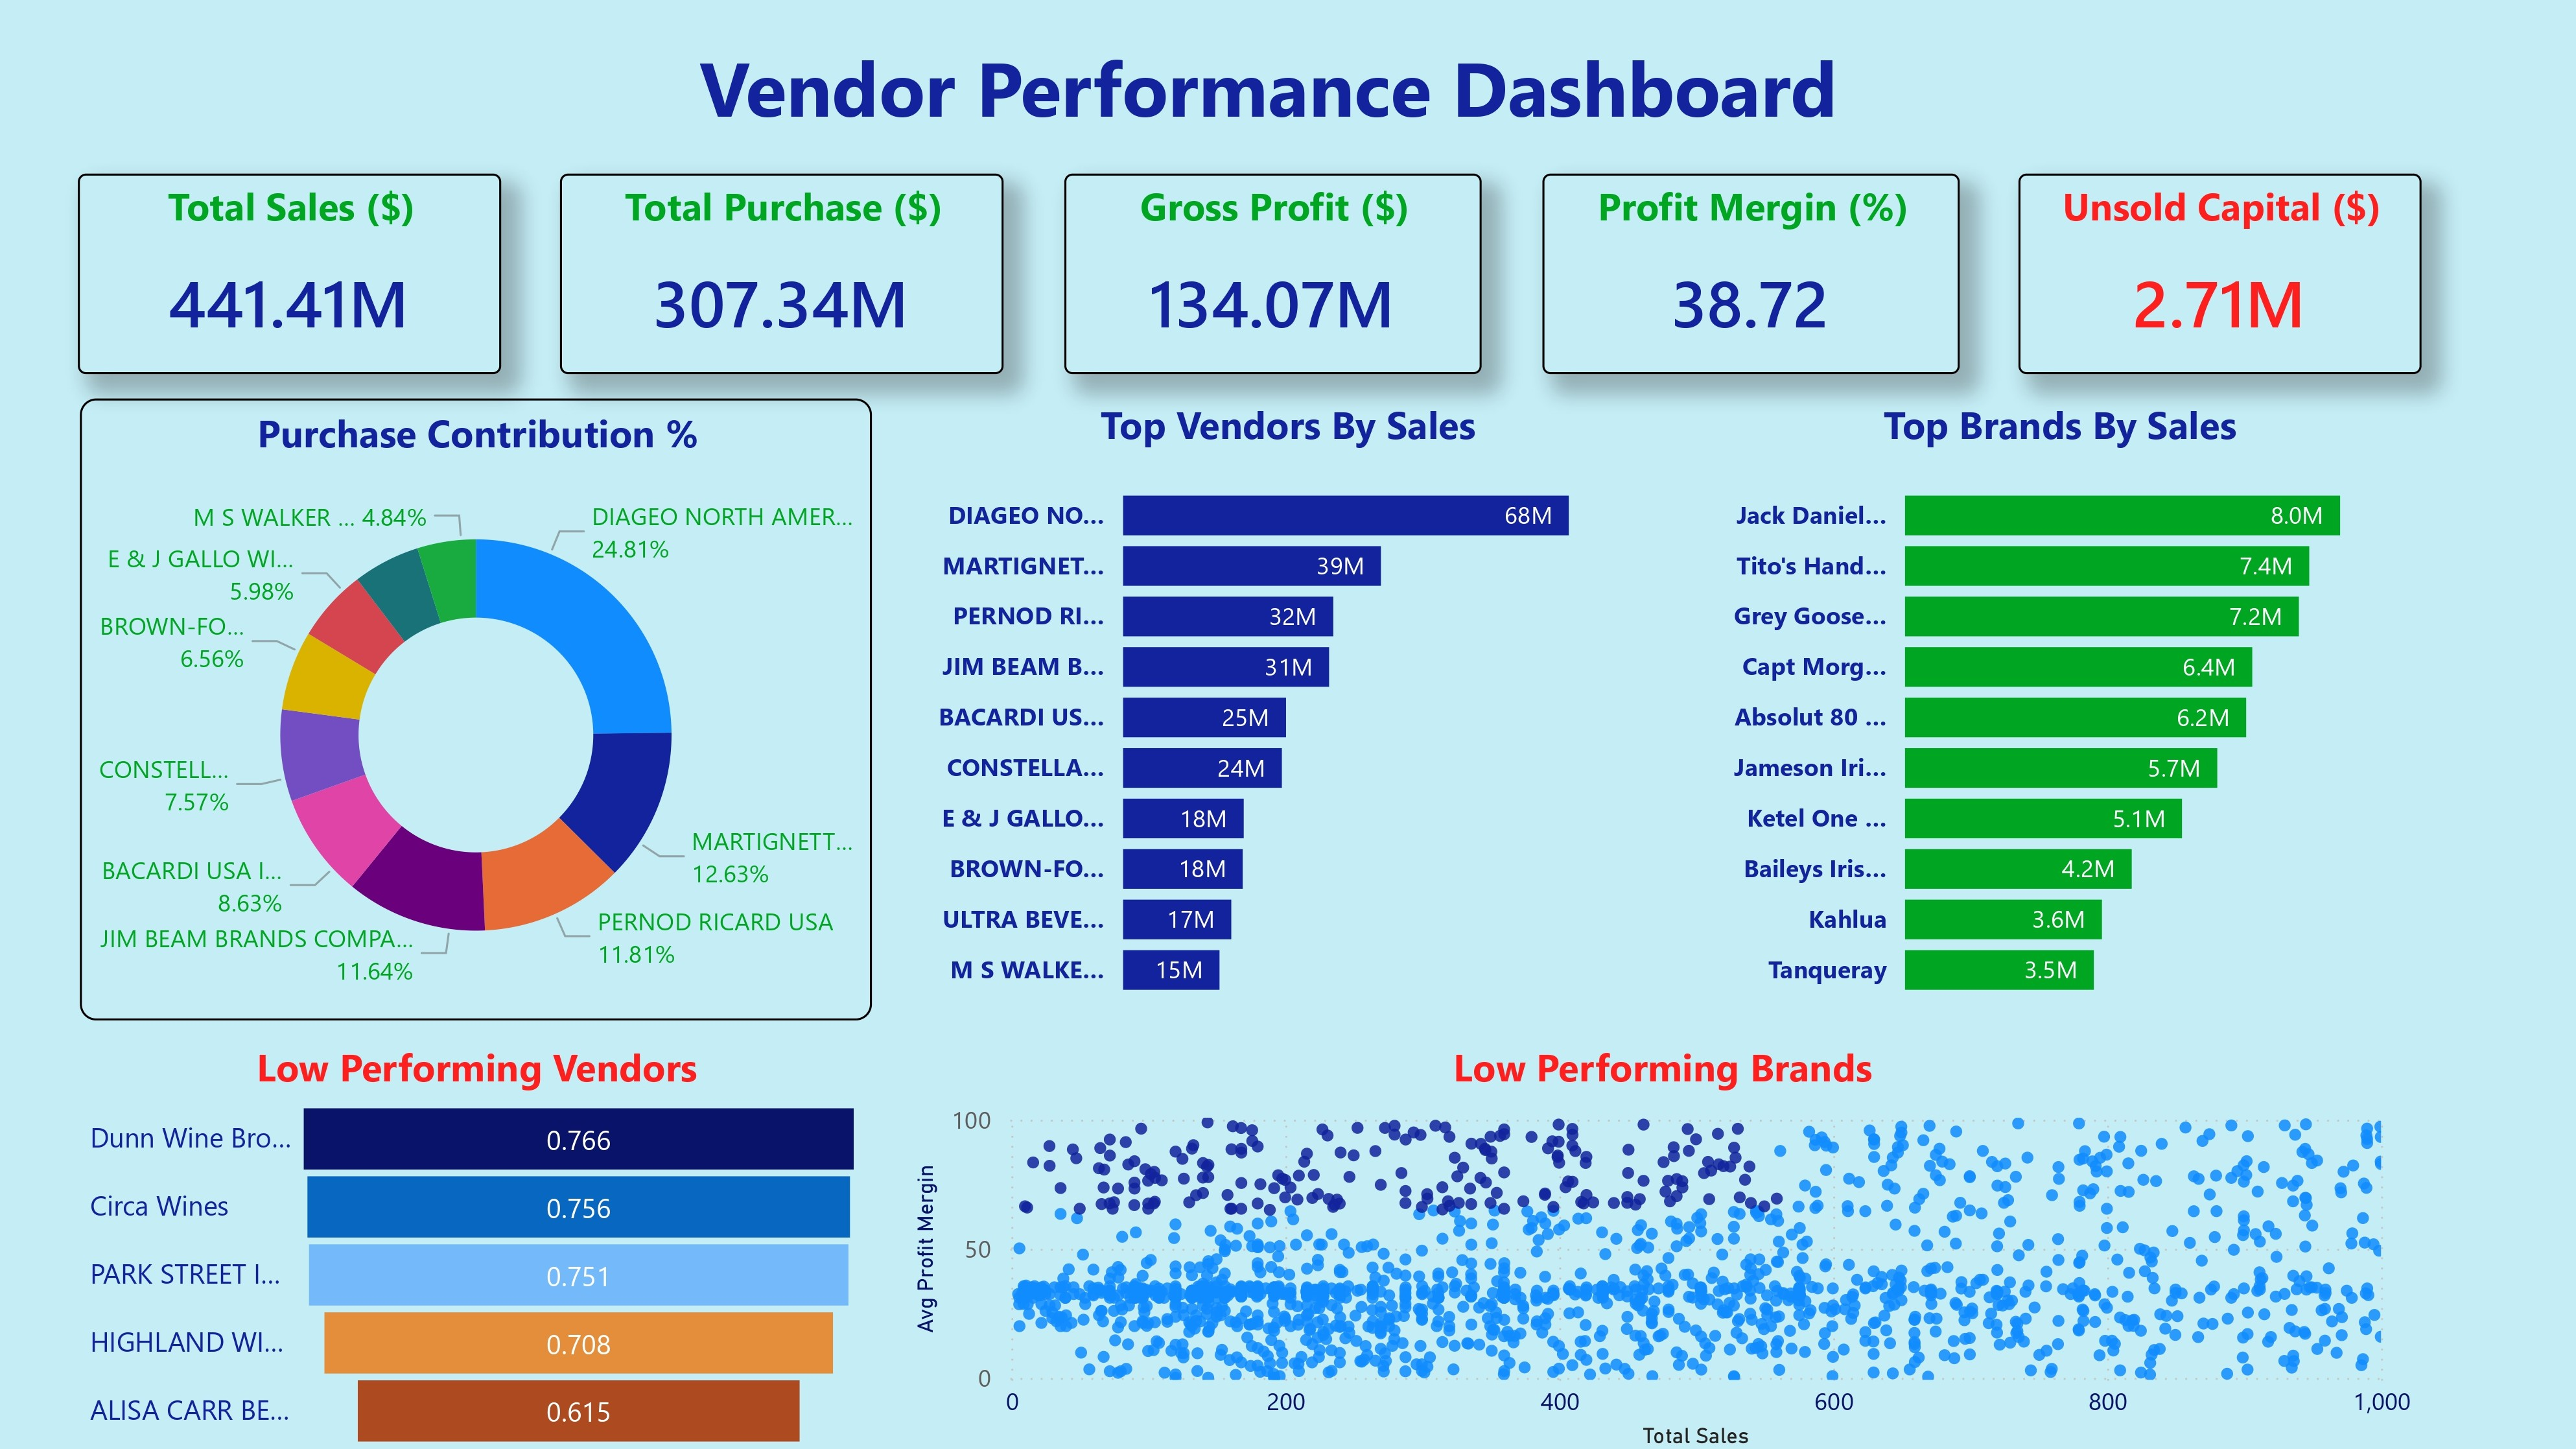

This screenshot's page, from the dashboard's own definition file:
{"tool":"powerbi","page":{"name":"Page 1","canvas":[1280,720],"ordinal":0},"visuals":[{"type":"textbox","box":[342.8,13,593.3,63.4],"z":0},{"type":"cardVisual","title":"Total Sales ($)","fields":{"Data":["Sum(vendor_sales_summary.TotalSalesDollars)"]},"box":[41.2,85.5,208.8,99.4],"z":1000},{"type":"cardVisual","title":"Gross Profit ($)","fields":{"Data":["Sum(vendor_sales_summary.GrossProfit)"]},"box":[528,85.5,205.9,99.4],"z":2000},{"type":"cardVisual","title":"Unsold Capital ($)","fields":{"Data":["Sum(vendor_sales_summary.UnsoldCapital)"]},"box":[998.9,85.5,198.7,99.4],"z":3000},{"type":"cardVisual","title":"Total Purchase ($)","fields":{"Data":["Sum(vendor_sales_summary.TotalPurchaseDollars)"]},"box":[278.8,85.5,218.9,99.4],"z":4000},{"type":"cardVisual","title":"Profit Mergin (%)","fields":{"Data":["Avg(vendor_sales_summary.ProfitMergin)"]},"box":[764.1,85.5,205.9,99.4],"z":5000},{"type":"donutChart","title":"Purchase Contribution % ","fields":{"Category":["PurchaseContribution.VendorName"],"Y":["Sum(PurchaseContribution.PurchaseContribution%)"]},"box":[41.8,197.3,391.7,306.8],"z":6000},{"type":"clusteredBarChart","title":"Top Vendors By Sales","fields":{"Category":["vendor_sales_summary.VendorName"],"Y":["Sum(vendor_sales_summary.TotalSalesDollars)"]},"box":[449.3,197.3,378.8,306.8],"z":7000},{"type":"clusteredBarChart","title":"Top Brands By Sales","fields":{"Category":["vendor_sales_summary.Description"],"Y":["Sum(vendor_sales_summary.TotalSalesDollars)"]},"box":[841,197.3,357.2,306.8],"z":8000},{"type":"funnel","title":"Low Performing Vendors","fields":{"Category":["LowTurnoverVendor.VendorName"],"Y":["Sum(LowTurnoverVendor.AvgStockTurnOver)"]},"box":[42,514,392,206],"z":8001},{"type":"scatterChart","title":"Low Performing Brands","fields":{"Category":["BrandPerformance.Description"],"X":["Sum(BrandPerformance.TotalSales)"],"Y":["Sum(BrandPerformance.AvgProfitMergin)"],"Series":["BrandPerformance.TargetBrand"]},"box":[449.3,514.1,748.9,205.9],"z":8002}]}

Visuals, with their boxes in screenshot pixels (x1, y1, x2, y2), scaled from the page's 1280x720 canvas onto the 2576x1449 screenshot:
textbox: BBox(690, 26, 1884, 154)
"Total Sales ($)" cardVisual: BBox(83, 172, 503, 372)
"Gross Profit ($)" cardVisual: BBox(1062, 172, 1477, 372)
"Unsold Capital ($)" cardVisual: BBox(2010, 172, 2410, 372)
"Total Purchase ($)" cardVisual: BBox(561, 172, 1001, 372)
"Profit Mergin (%)" cardVisual: BBox(1538, 172, 1952, 372)
"Purchase Contribution % " donutChart: BBox(84, 397, 872, 1015)
"Top Vendors By Sales" clusteredBarChart: BBox(904, 397, 1667, 1015)
"Top Brands By Sales" clusteredBarChart: BBox(1692, 397, 2411, 1015)
"Low Performing Vendors" funnel: BBox(84, 1035, 873, 1448)
"Low Performing Brands" scatterChart: BBox(904, 1035, 2411, 1448)
